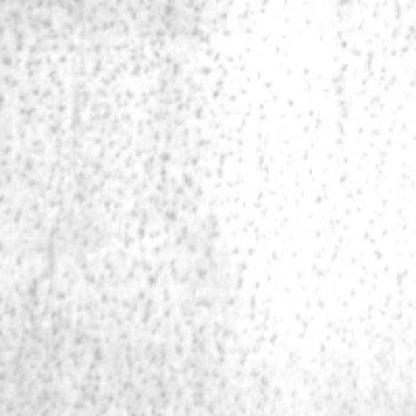pitted_surface: (2, 4, 229, 416), (208, 266, 416, 416)
